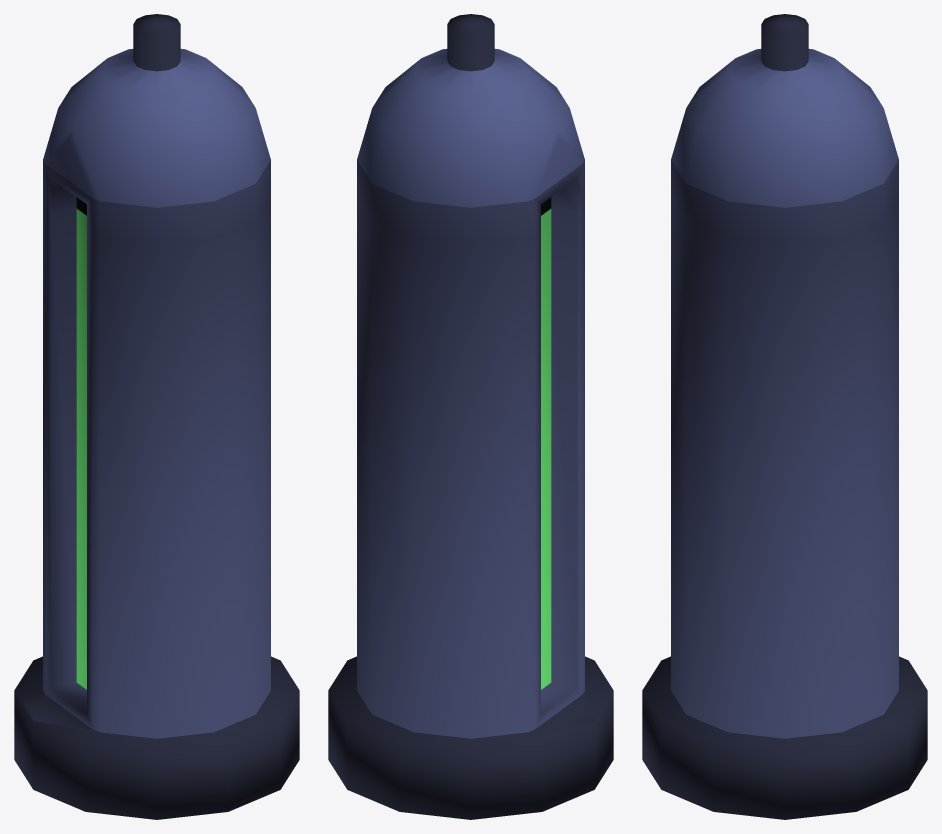
The model's file is OxygenTankSmall.fbx.
3 views of the same model, side by side, from view 1: azimuth 30°, elevation 25°; view 2: azimuth 150°, elevation 25°; view 3: azimuth 270°, elevation 25° (orthographic).
Parts seen in each view (by area): view 1: Circle.004; view 2: Circle.004; view 3: Circle.004.
Boxes of the visible parts, x1,y1,x2,y2 form: Circle.004: (14, 14, 299, 819); Circle.004: (328, 14, 613, 819); Circle.004: (642, 14, 927, 819).
Bounding box in the file's own units: 57.93 × 166 × 57.94.
